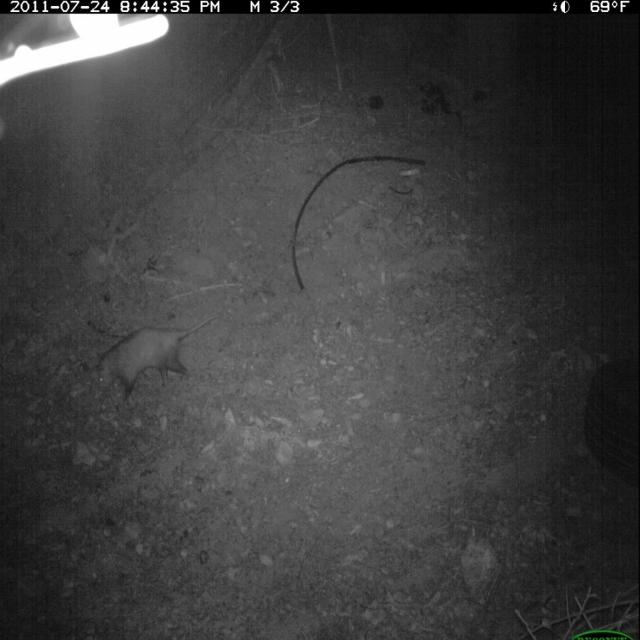opossum: (93, 312, 222, 409)
